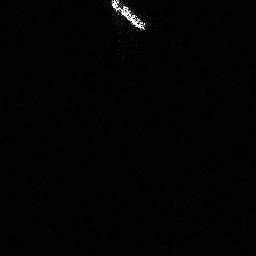ship: (109, 1, 147, 30)
